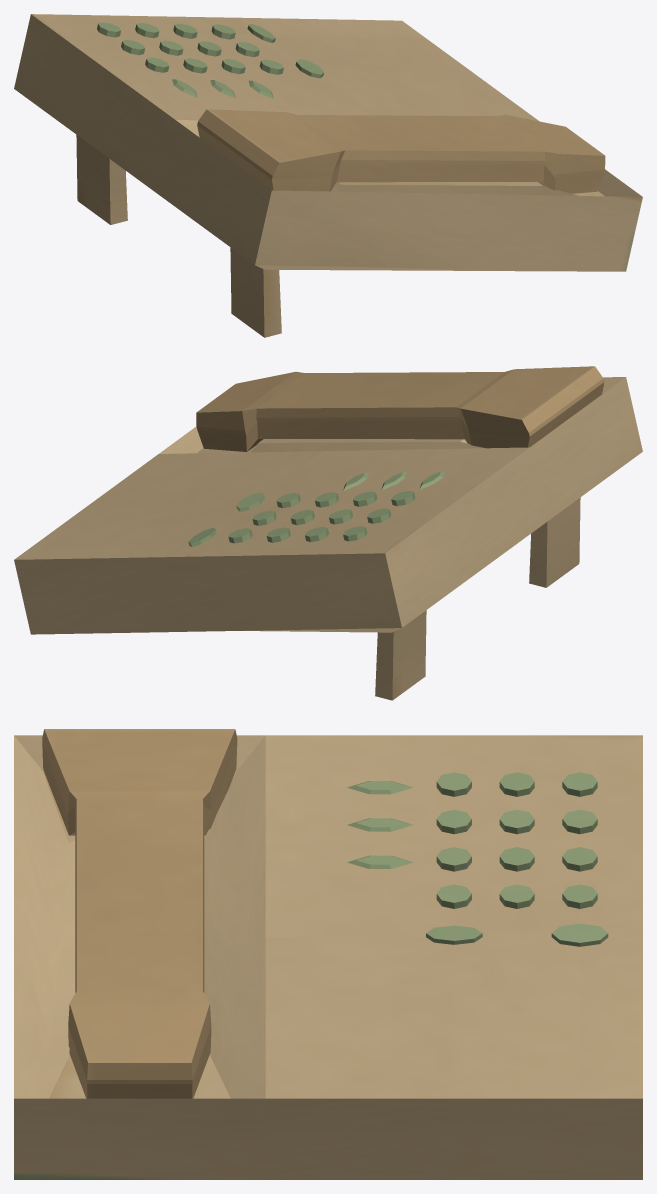
File: telefon.fbx
3 renders of one model, top to bottom at view 1: azimuth 30°, elevation 25°; view 2: azimuth 150°, elevation 25°; view 3: azimuth 270°, elevation 25°, orthographic. The views are drawn at different scales.
Visible parts, largest first — view 1: Telefon; view 2: Telefon; view 3: Telefon.
Boxes of the visible parts, x1,y1,x2,y2 form: Telefon: [14, 14, 642, 337]; Telefon: [14, 366, 642, 700]; Telefon: [14, 729, 642, 1179].
Size of the model in its own units: 4.88 by 2.24 by 5.24.
1 material, 1 textured.
